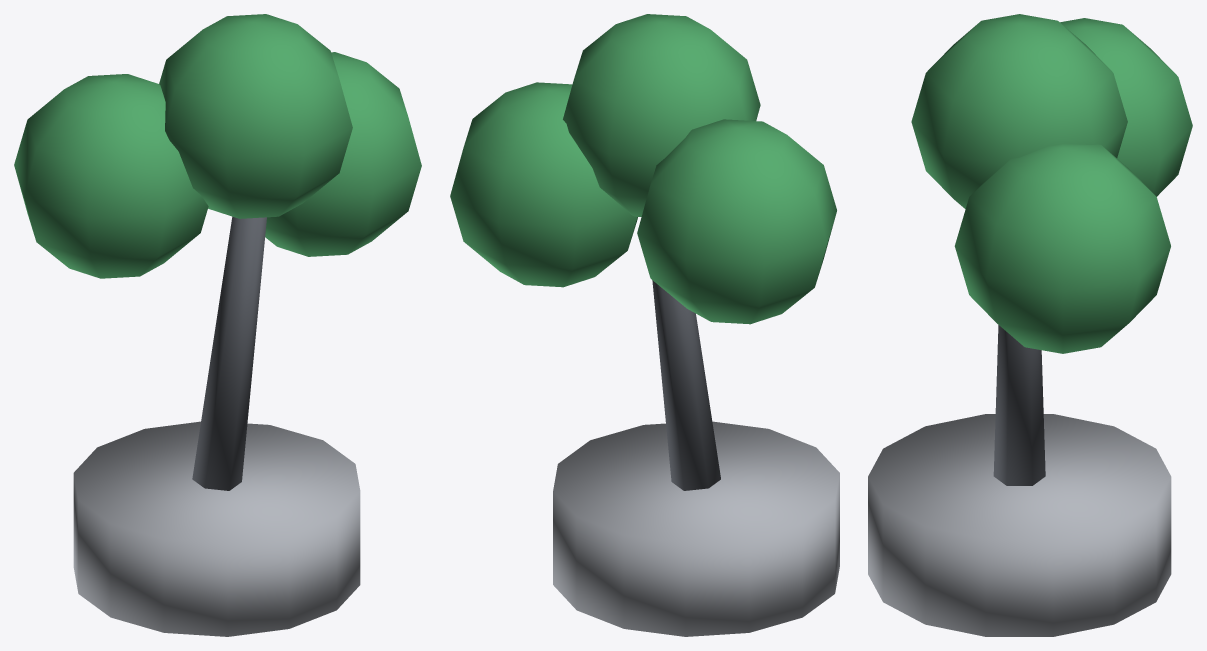
Rendered from plant_small_bonsai_mini.glb.
The picture shows the model from 3 angles, left to right: view 1: azimuth 30°, elevation 25°; view 2: azimuth 150°, elevation 25°; view 3: azimuth 270°, elevation 25°; orthographic projection. The views are drawn at different scales.
Parts seen in each view (by area): view 1: GD_plant_small_bonsai_mini__m2, GD_plant_small_bonsai_mini__m0, GD_plant_small_bonsai_mini__m1; view 2: GD_plant_small_bonsai_mini__m2, GD_plant_small_bonsai_mini__m0, GD_plant_small_bonsai_mini__m1; view 3: GD_plant_small_bonsai_mini__m2, GD_plant_small_bonsai_mini__m0, GD_plant_small_bonsai_mini__m1.
Boxes of the visible parts, x1,y1,x2,y2 form: GD_plant_small_bonsai_mini__m2: (14,14,421,278); GD_plant_small_bonsai_mini__m0: (73,421,360,636); GD_plant_small_bonsai_mini__m1: (192,216,266,490); GD_plant_small_bonsai_mini__m2: (450,14,836,324); GD_plant_small_bonsai_mini__m0: (553,421,839,636); GD_plant_small_bonsai_mini__m1: (652,280,720,490); GD_plant_small_bonsai_mini__m2: (911,14,1192,353); GD_plant_small_bonsai_mini__m0: (868,414,1171,636); GD_plant_small_bonsai_mini__m1: (993,325,1045,485).
Size of the model in its own units: 0.21 by 0.29 by 0.15.
